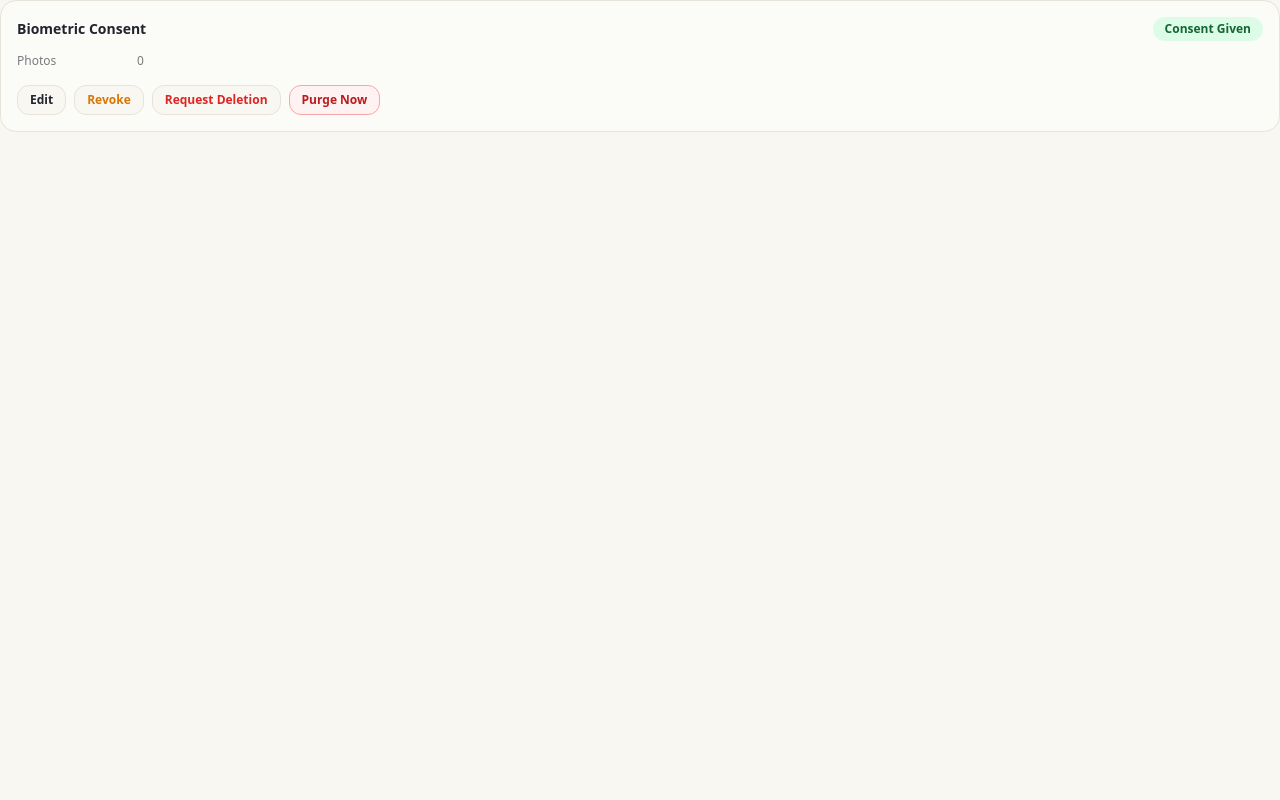
Test: AC12 — purge requires double ConfirmDialog › first ConfirmDialog appears on Purge Now click
Click the button "Purge Now" at (334, 100), box 288,85 -> 380,115
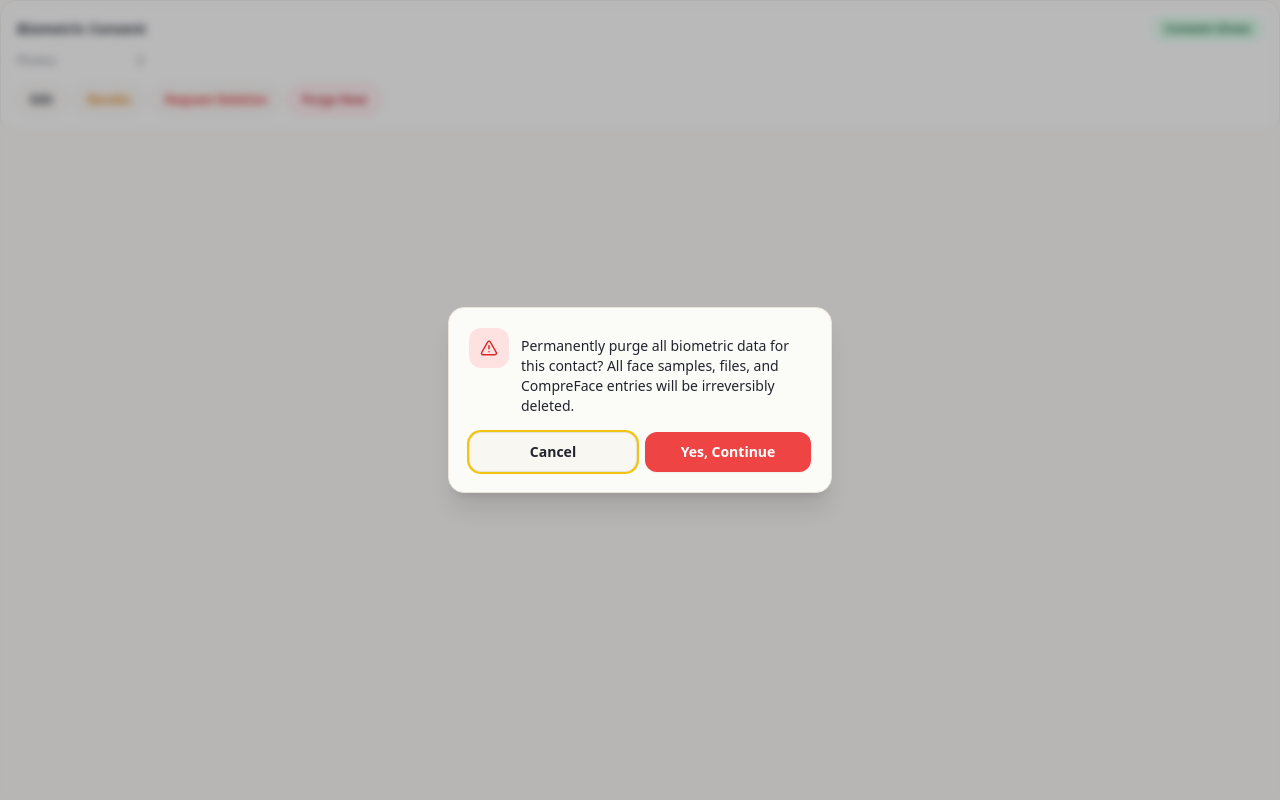
Now the dialog is shown, box 448,307 -> 832,493
Now the text "Permanently purge" is shown, box 521,336 -> 789,415
